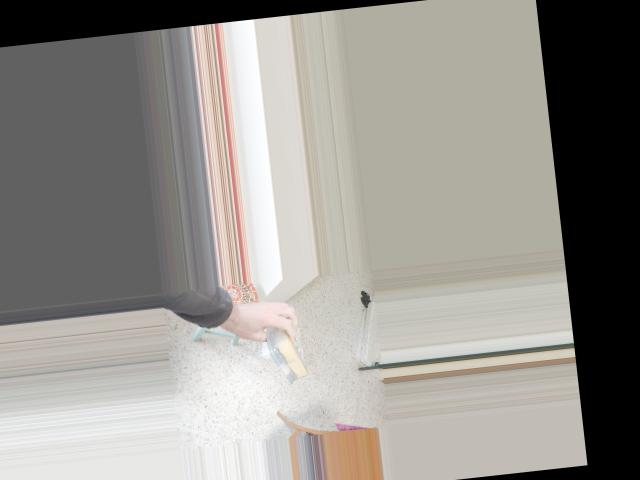cheese: (259, 298, 308, 390)
